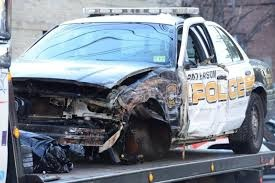Smashed: (6, 59, 246, 163)
